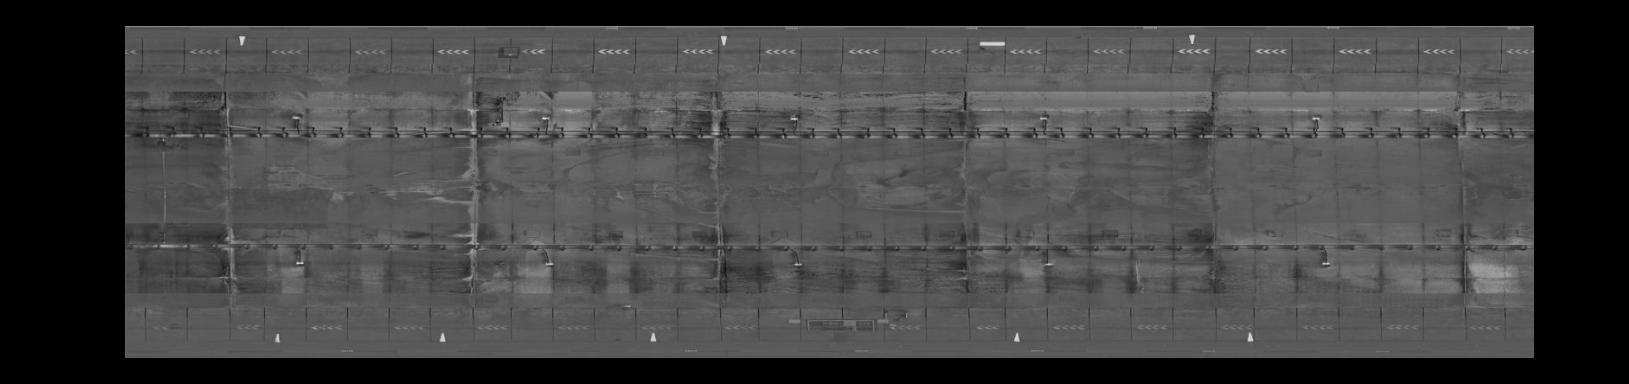light: (290, 256, 313, 271), (535, 114, 556, 124), (289, 112, 305, 124), (1317, 257, 1334, 269), (539, 259, 559, 269), (787, 260, 807, 269), (1039, 259, 1056, 269), (1034, 114, 1051, 122), (1306, 115, 1324, 124), (787, 114, 803, 124)
